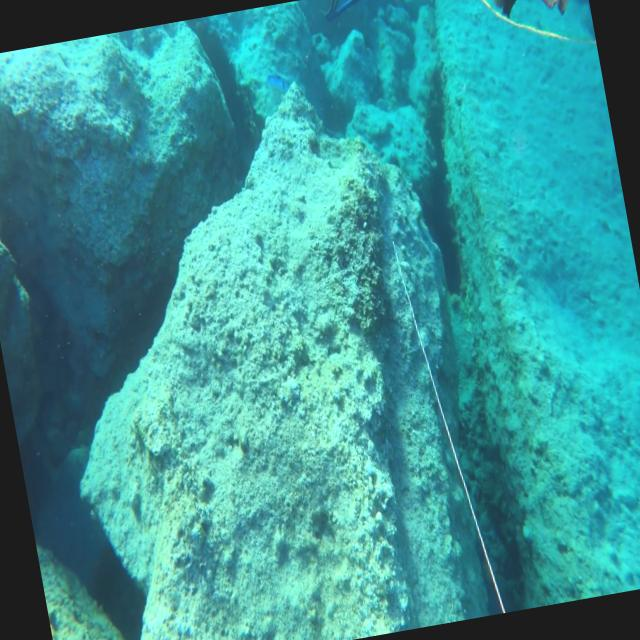Balon Baligi: (266, 70, 294, 98)
